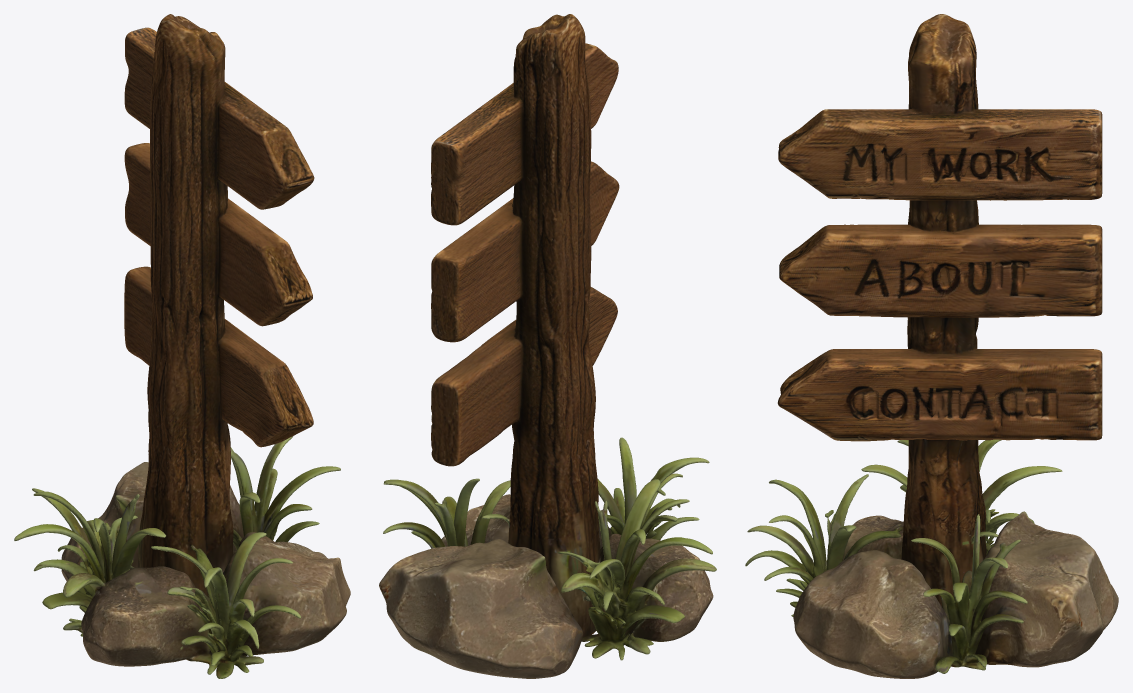
File: C08-木质路牌3d模型.glb
3 renders of one model, left to right at view 1: azimuth 30°, elevation 25°; view 2: azimuth 150°, elevation 25°; view 3: azimuth 270°, elevation 25°, orthographic.
Visible parts, largest first — view 1: tripo_node_1d29e4a9-0d71-4481-ac45-6c94a37fa5f1; view 2: tripo_node_1d29e4a9-0d71-4481-ac45-6c94a37fa5f1; view 3: tripo_node_1d29e4a9-0d71-4481-ac45-6c94a37fa5f1.
Boxes of the visible parts, x1,y1,x2,y2 form: tripo_node_1d29e4a9-0d71-4481-ac45-6c94a37fa5f1: [14, 14, 350, 678]; tripo_node_1d29e4a9-0d71-4481-ac45-6c94a37fa5f1: [379, 14, 716, 678]; tripo_node_1d29e4a9-0d71-4481-ac45-6c94a37fa5f1: [745, 14, 1118, 678].
Size of the model in its own units: 0.5632 by 1 by 0.5543.
Materials: 1 (1 with a texture image).
